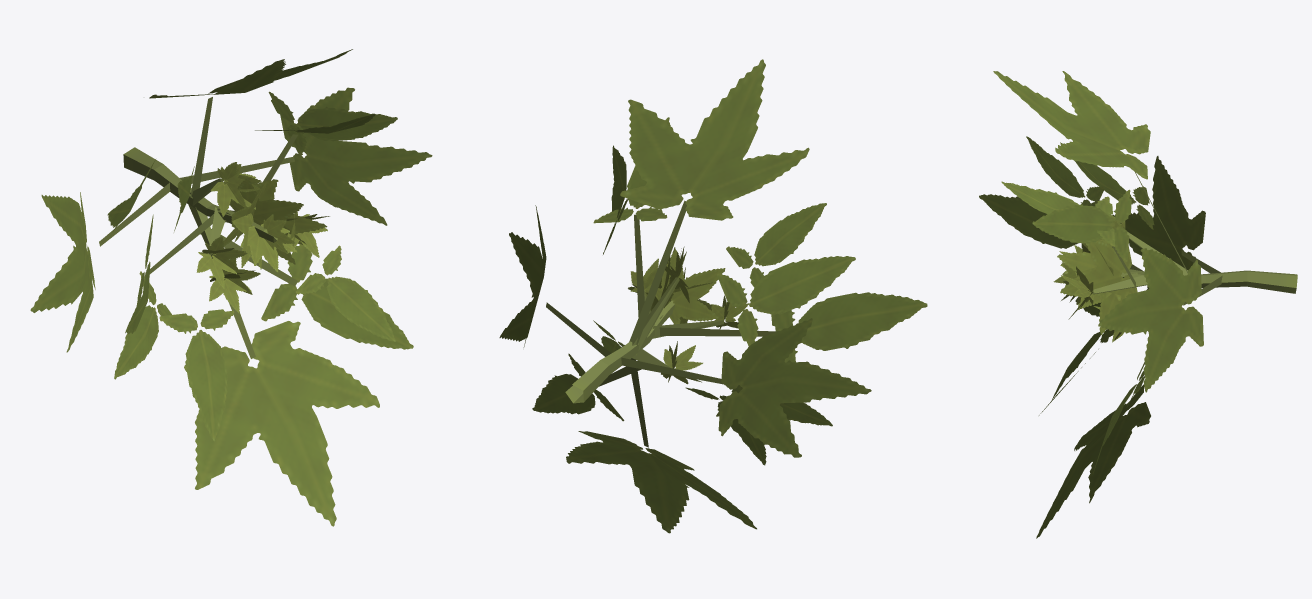
File: p_auto_vegetative_c1_cards.obj
The picture shows the model from 3 angles, left to right: view 1: azimuth 30°, elevation 25°; view 2: azimuth 150°, elevation 25°; view 3: azimuth 270°, elevation 25°; orthographic projection. The views are drawn at different scales.
Bounding box in the file's own units: 0.777 × 0.951 × 0.591.
Materials: 1 (1 with a texture image).
